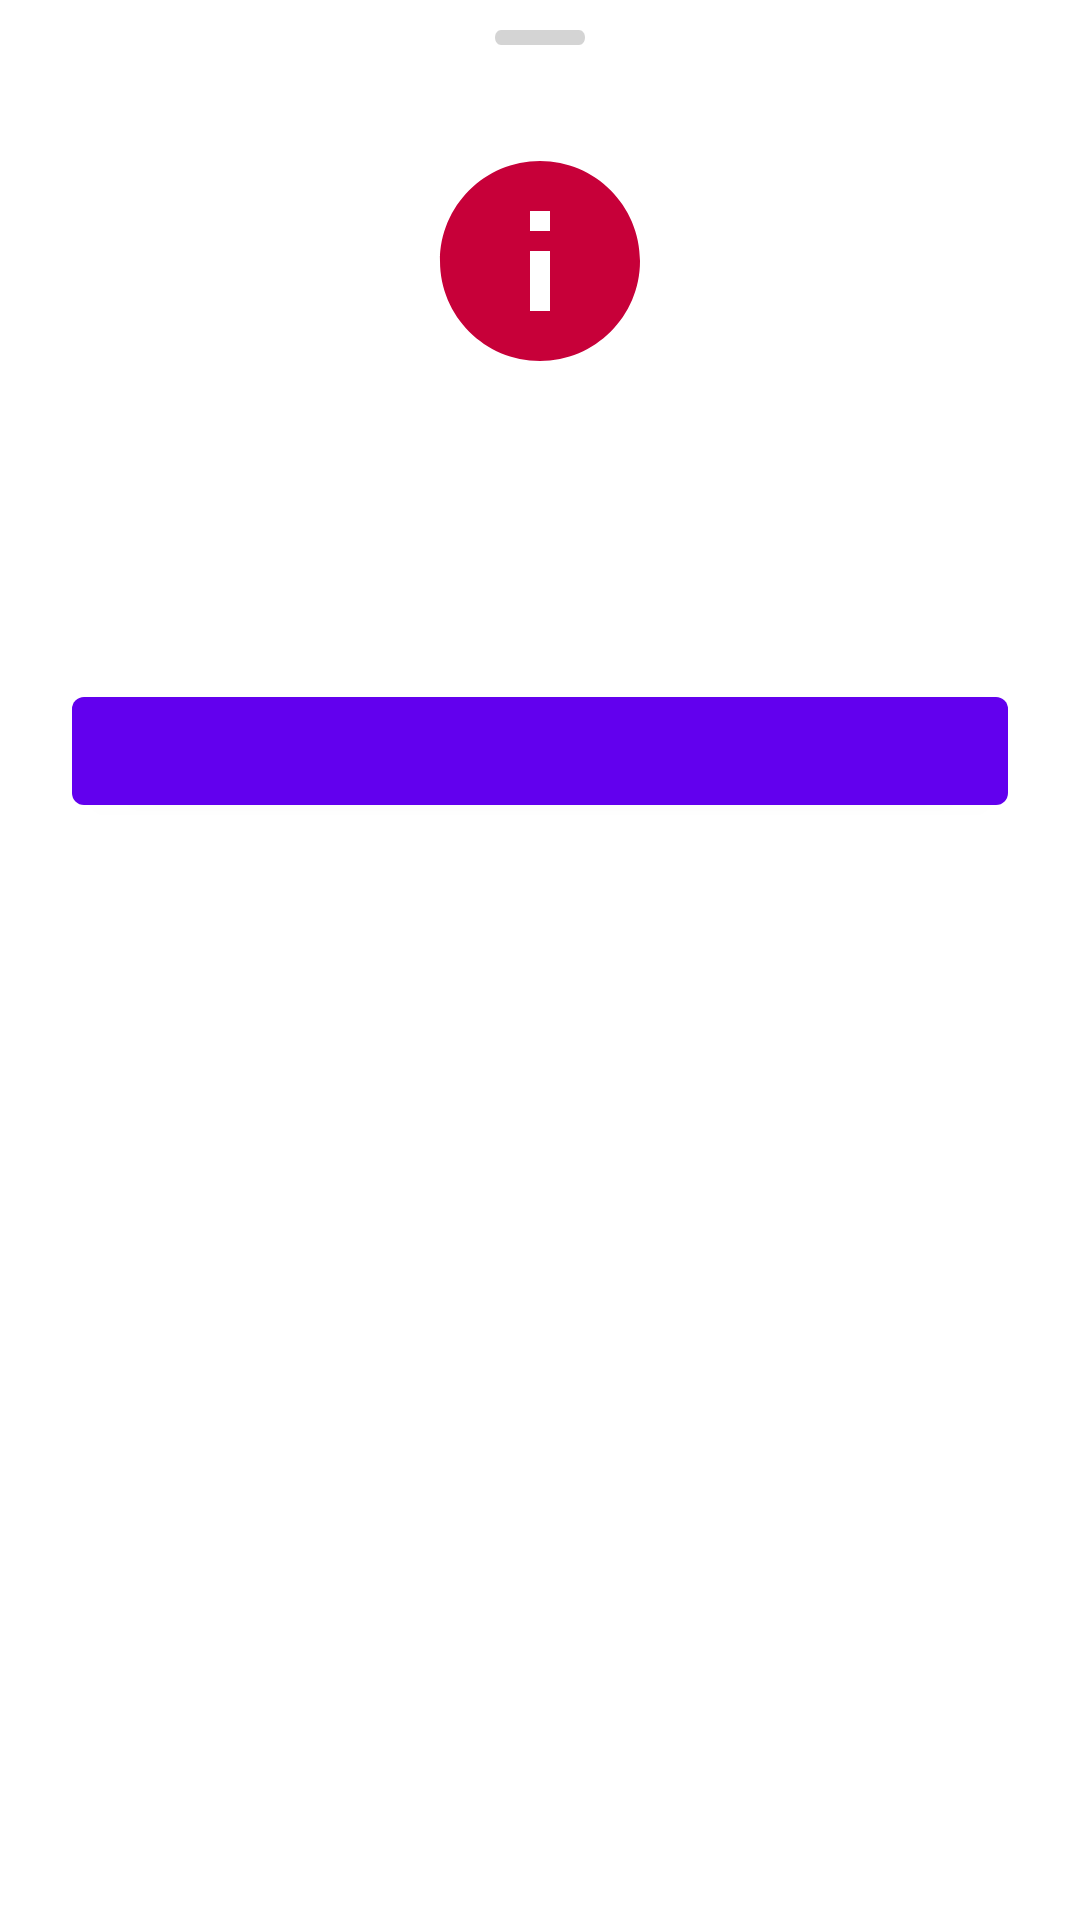

Screen size 1080px×1920px. Icon name, then its center in pixels as point (x, y):
info: point (539, 261)
